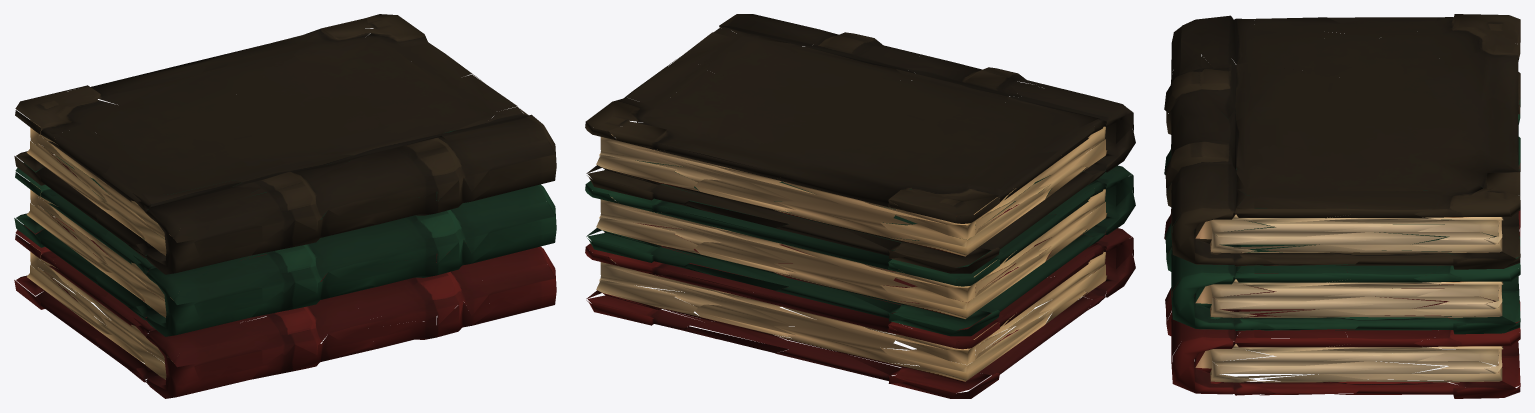
File: library-book-stack.glb
The picture shows the model from 3 angles, left to right: view 1: azimuth 30°, elevation 25°; view 2: azimuth 150°, elevation 25°; view 3: azimuth 270°, elevation 25°; orthographic projection. The views are drawn at different scales.
Parts seen in each view (by area): view 1: library-book-stack-3, library-book-stack-2, library-book-stack-1; view 2: library-book-stack-3, library-book-stack-1, library-book-stack-2; view 3: library-book-stack-3, library-book-stack-2, library-book-stack-1.
Part boxes in pixels (bbox=[...]): library-book-stack-3: bbox=[14, 14, 556, 274]; library-book-stack-2: bbox=[14, 130, 556, 336]; library-book-stack-1: bbox=[14, 217, 556, 398]; library-book-stack-3: bbox=[585, 14, 1135, 273]; library-book-stack-1: bbox=[585, 214, 1135, 398]; library-book-stack-2: bbox=[585, 151, 1135, 336]; library-book-stack-3: bbox=[1164, 14, 1520, 269]; library-book-stack-2: bbox=[1164, 99, 1520, 334]; library-book-stack-1: bbox=[1164, 163, 1520, 398].
Size of the model in its own units: 0.26 by 0.12 by 0.2.
4 materials, 4 textured.
